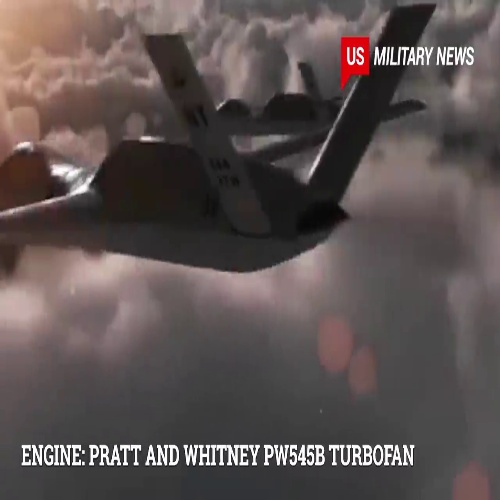uav: (1, 36, 429, 273)
